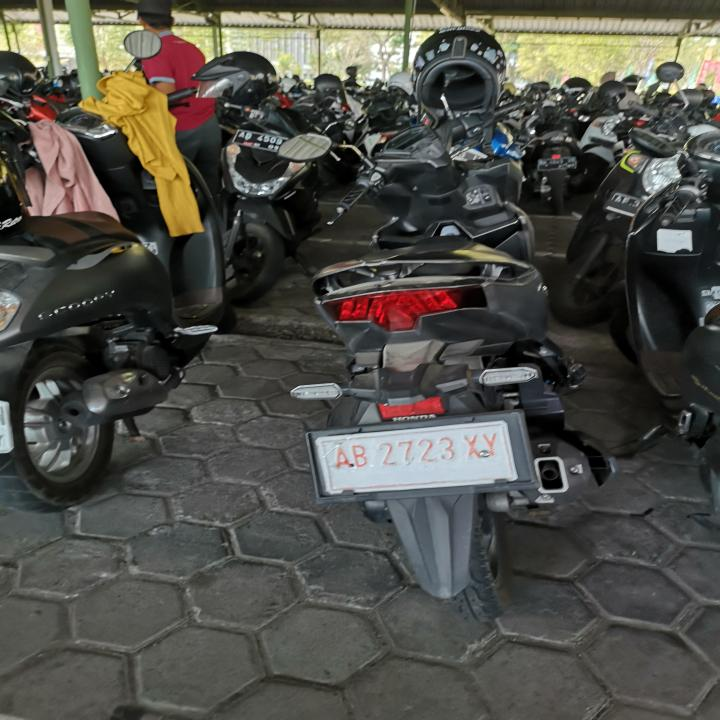plate: (308, 408, 534, 498), (231, 127, 292, 153)
